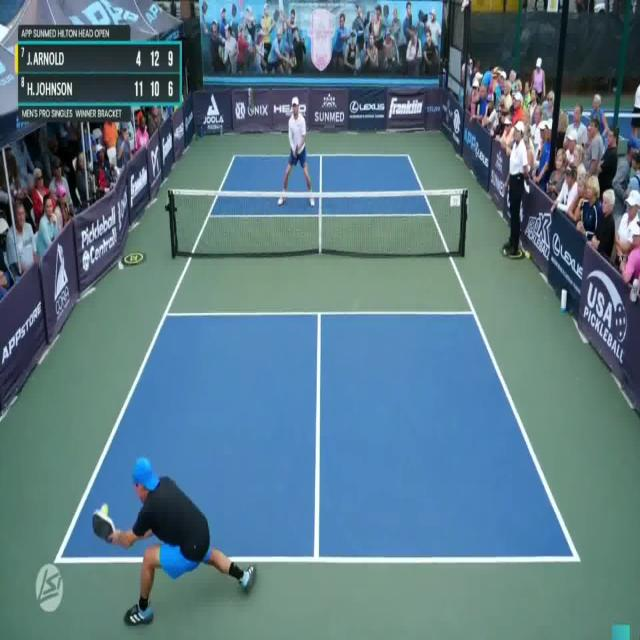ball: (100, 502, 108, 514)
